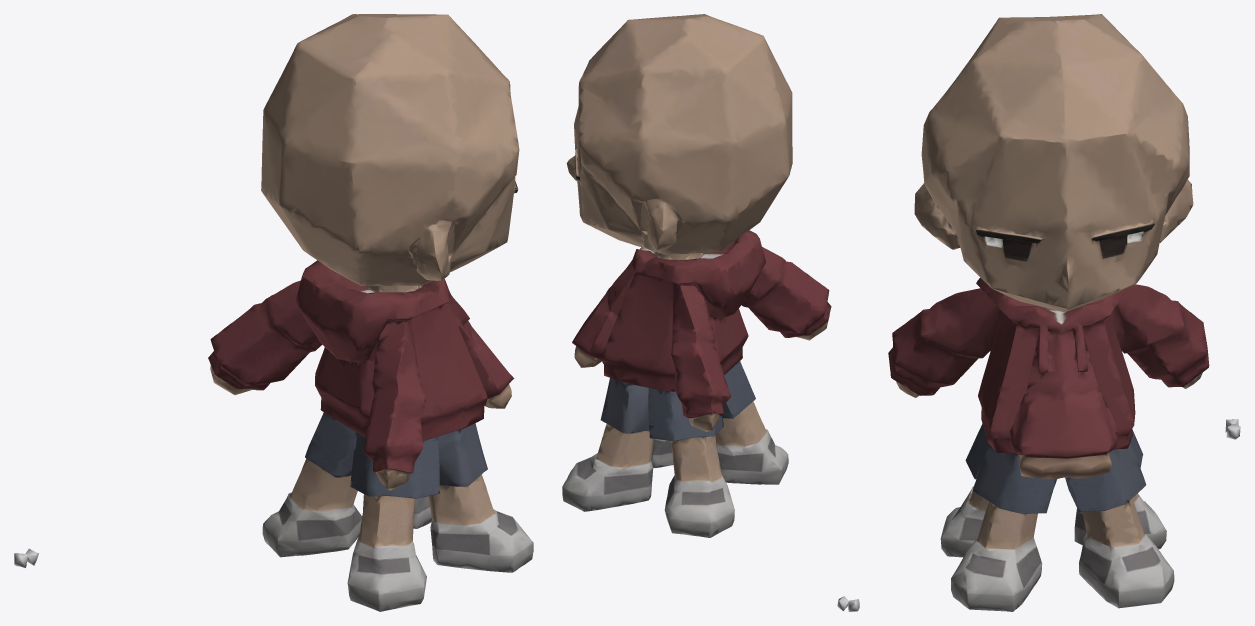
File: _dressed_4view.glb
3 renders of one model, left to right at view 1: azimuth 30°, elevation 25°; view 2: azimuth 150°, elevation 25°; view 3: azimuth 270°, elevation 25°, orthographic. The views are drawn at different scales.
Parts seen in each view (by area): view 1: tripo_node_e77259bb-aa35-470f-ae90-5cbe23295fc0; view 2: tripo_node_e77259bb-aa35-470f-ae90-5cbe23295fc0; view 3: tripo_node_e77259bb-aa35-470f-ae90-5cbe23295fc0.
Boxes of the visible parts, box(x1,y1,x2,y2) form: tripo_node_e77259bb-aa35-470f-ae90-5cbe23295fc0: box(14, 14, 533, 611); tripo_node_e77259bb-aa35-470f-ae90-5cbe23295fc0: box(562, 14, 859, 611); tripo_node_e77259bb-aa35-470f-ae90-5cbe23295fc0: box(888, 14, 1240, 611).
Size of the model in its own units: 0.7987 by 1 by 0.5826.
1 material, 1 textured.
